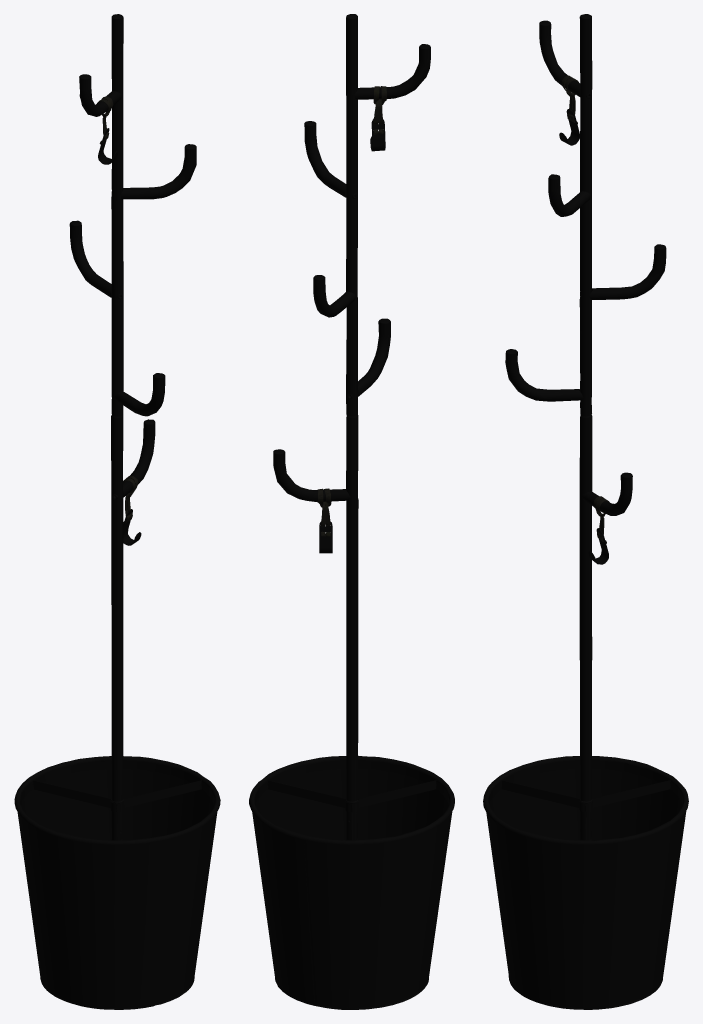
The model's file is alganas_wieszak_stojacy_90585894.glb.
The picture shows the model from 3 angles, left to right: view 1: azimuth 30°, elevation 25°; view 2: azimuth 150°, elevation 25°; view 3: azimuth 270°, elevation 25°; orthographic projection.
Parts seen in each view (by area): view 1: alganas_wieszak_stojacy_90585894; view 2: alganas_wieszak_stojacy_90585894; view 3: alganas_wieszak_stojacy_90585894.
Part boxes in pixels (left/top/right/bottom): alganas_wieszak_stojacy_90585894: left=14, top=14, right=220, bottom=1009; alganas_wieszak_stojacy_90585894: left=249, top=14, right=454, bottom=1009; alganas_wieszak_stojacy_90585894: left=483, top=14, right=688, bottom=1009.
Bounding box in the file's own units: 0.3357 × 1.73 × 0.3351.
1 material, 1 textured.
